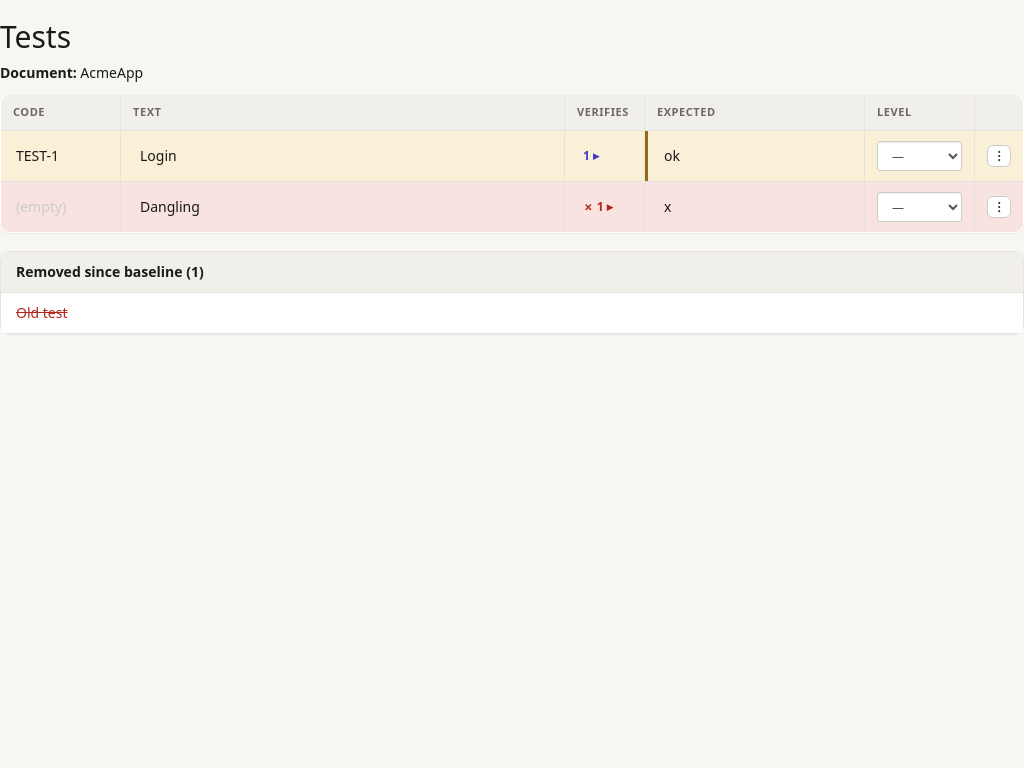
Test: VTPTable change tracking › marks a modified row, lists removed tests, and surfaces attribution in the info dialog
The image size is (1024, 768).
Expected: the row with class "warning" is shown, [0, 130, 1023, 181]
Expected: the text "Removed since baseline (1)" is shown, [16, 262, 204, 281]
Click the button named "Row actions" at (999, 156), box [987, 145, 1011, 167]
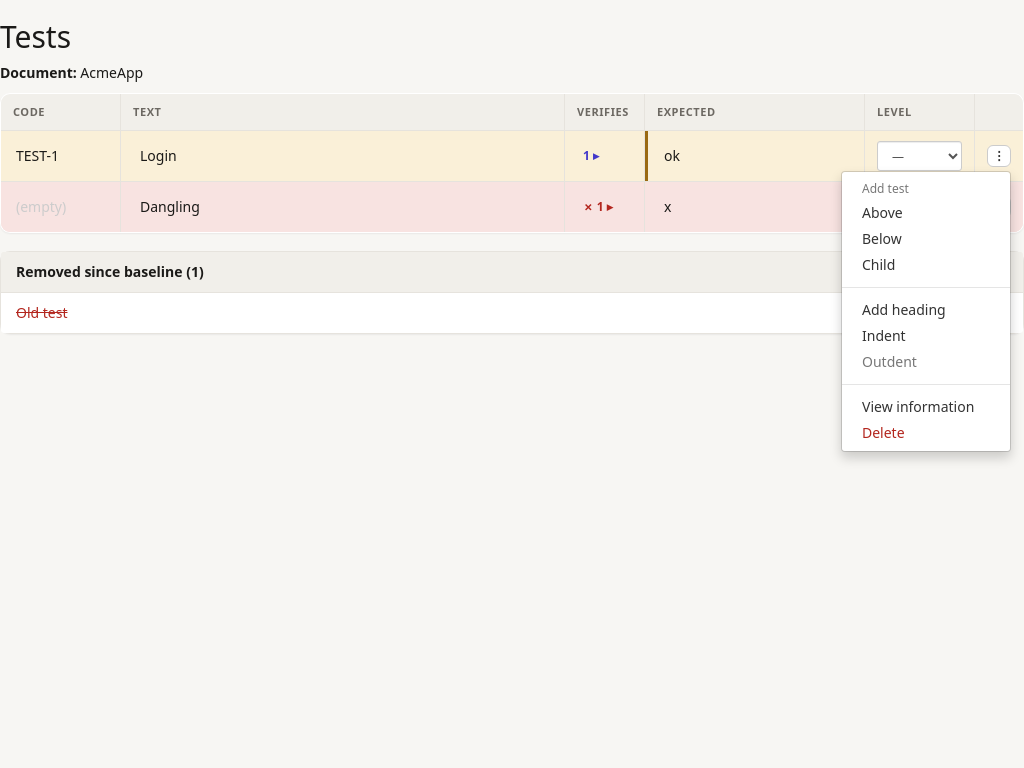
Click the link "View information" at (918, 406), box [862, 397, 974, 416]
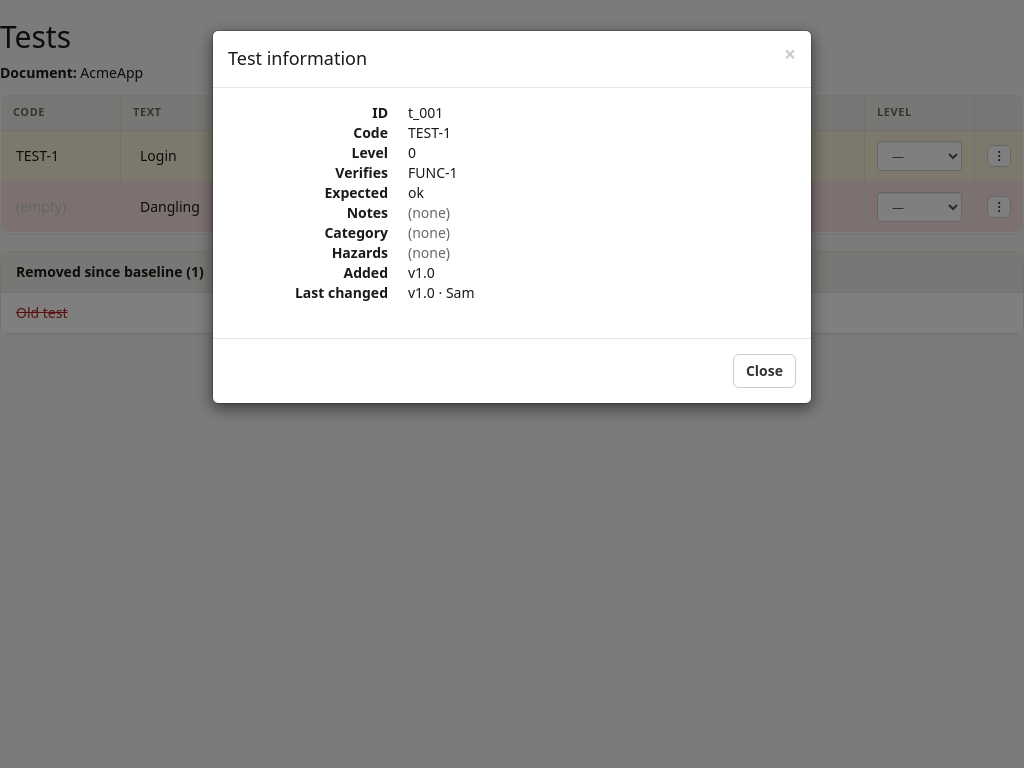
Result: the text "v1.0 · Sam" is shown at [408, 283, 474, 302]
